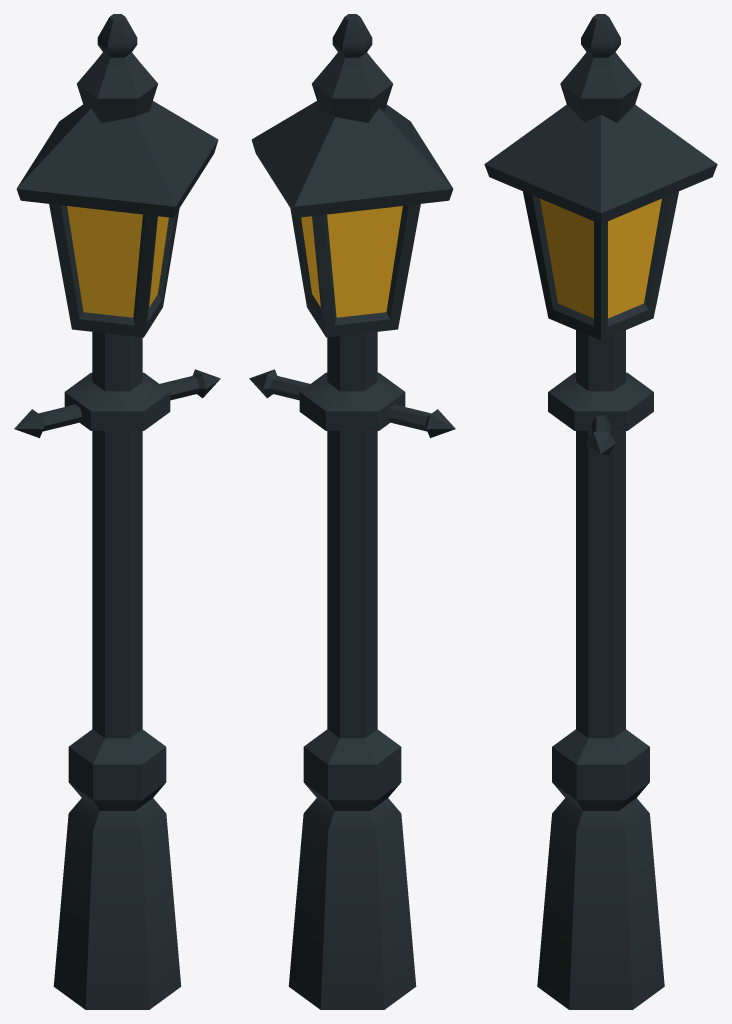
Rendered from lampPost.gltf.glb.
3 views of the same model, side by side, from view 1: azimuth 30°, elevation 25°; view 2: azimuth 150°, elevation 25°; view 3: azimuth 270°, elevation 25° (orthographic).
Visible parts, largest first — view 1: lampPost; view 2: lampPost; view 3: lampPost.
Boxes of the visible parts, box(x1,y1,x2,y2) form: lampPost: box(14, 14, 220, 1009); lampPost: box(249, 14, 455, 1009); lampPost: box(484, 14, 717, 1009).
Bounding box in the file's own units: 0.6702 × 3 × 0.6541.
